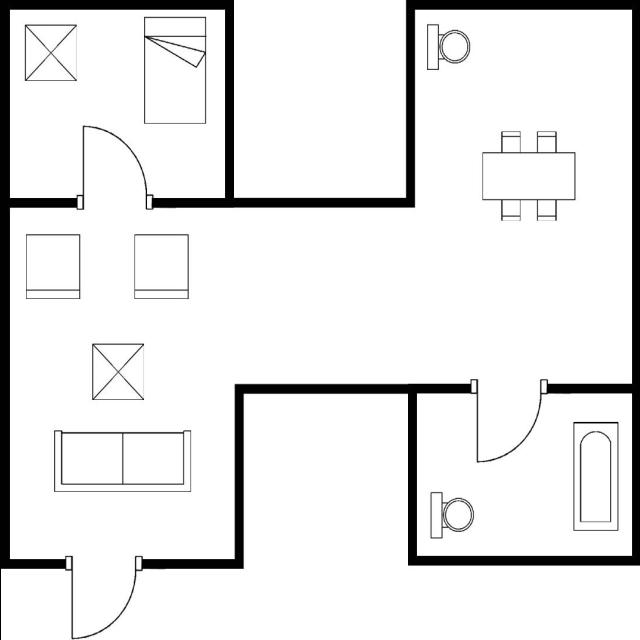bed: (139, 11, 211, 130)
coffee_table: (86, 337, 148, 407), (19, 20, 82, 86)
dining_table: (478, 124, 580, 227)
large_sink: (422, 17, 474, 78), (427, 486, 478, 543)
large_sofa: (48, 424, 196, 496)
small_sofa: (20, 225, 84, 302), (129, 228, 193, 304)
tub: (567, 414, 622, 536)
